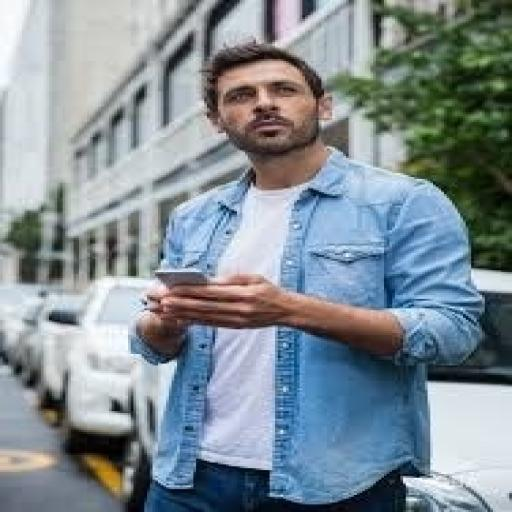texting: (126, 38, 488, 510)
